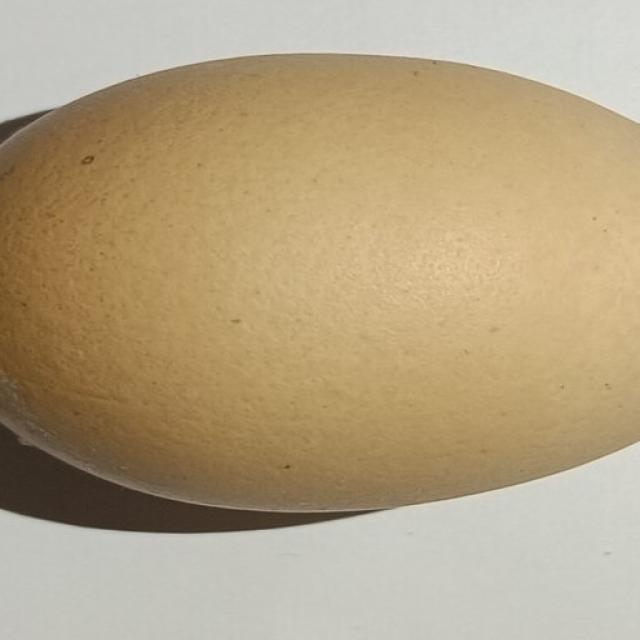fresh: (0, 41, 640, 518)
